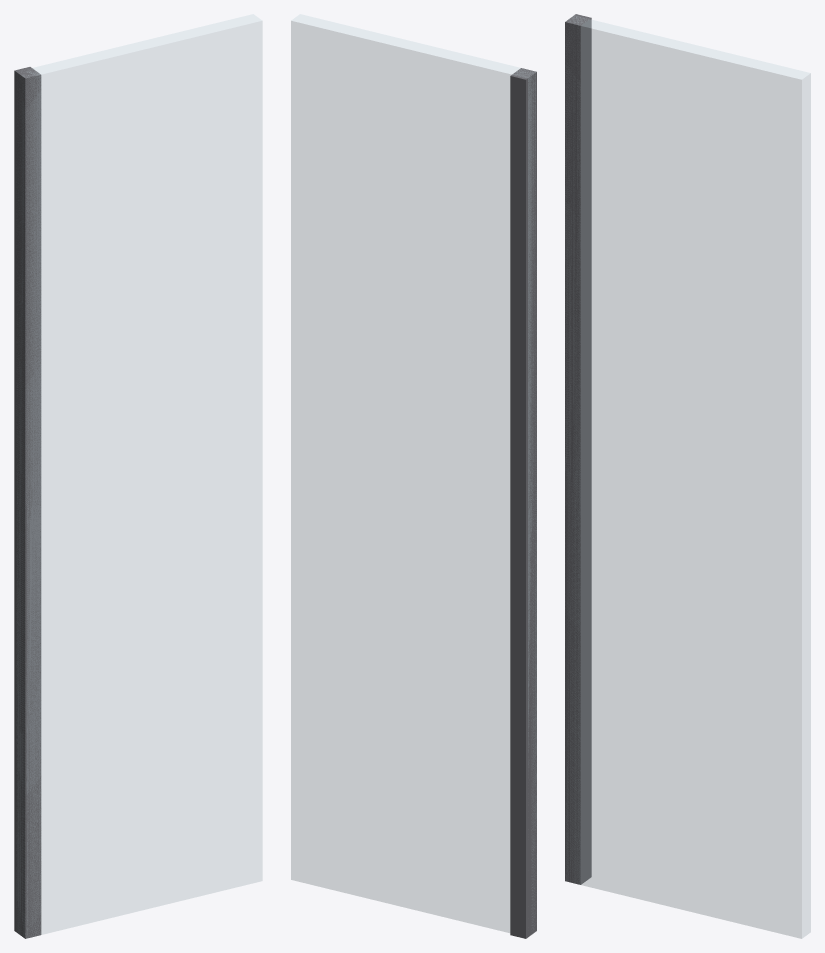
The model's file is glass_slider_leaf_075.glb.
3 renders of one model, left to right at view 1: azimuth 30°, elevation 25°; view 2: azimuth 150°, elevation 25°; view 3: azimuth 330°, elevation 25°, orthographic.
Visible parts, largest first — view 1: glass_slider_leaf_075; view 2: glass_slider_leaf_075; view 3: glass_slider_leaf_075.
Boxes of the visible parts, <box> form: glass_slider_leaf_075: <box>14,14,262,938</box>; glass_slider_leaf_075: <box>291,14,536,938</box>; glass_slider_leaf_075: <box>565,14,810,938</box>.
Size of what is drawn, in the model's own units: 0.75 by 2.6 by 0.06.
